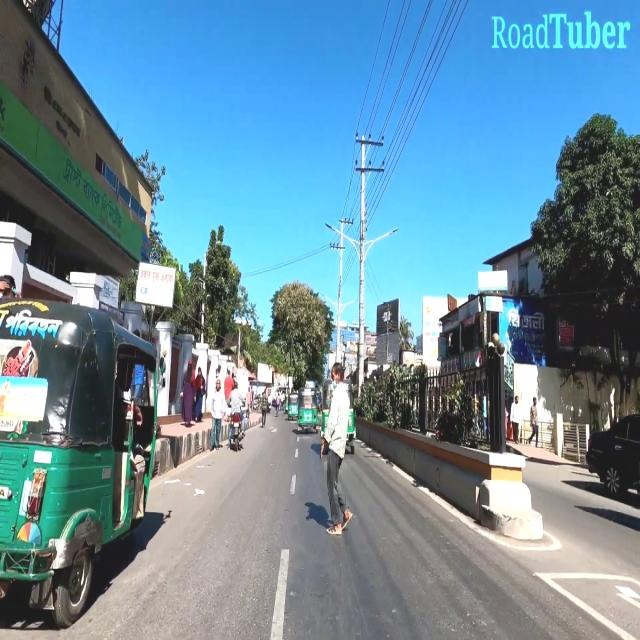black: (585, 409, 639, 492)
